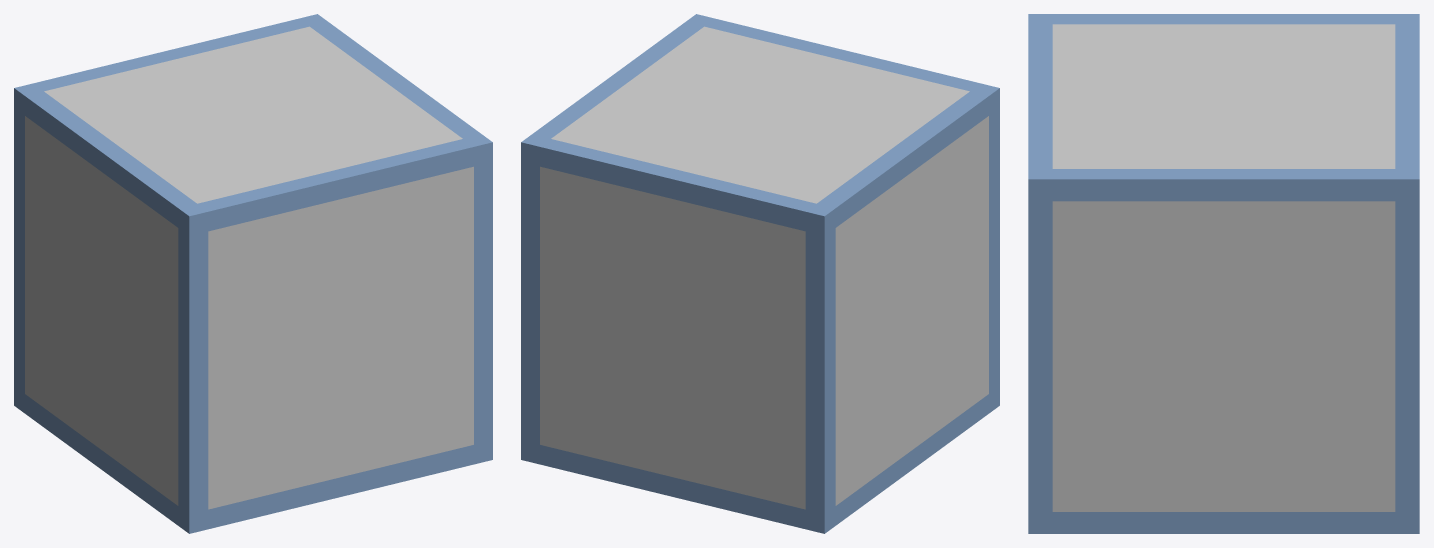
Rendered from Player.fbx.
3 renders of one model, left to right at view 1: azimuth 30°, elevation 25°; view 2: azimuth 150°, elevation 25°; view 3: azimuth 270°, elevation 25°, orthographic. The views are drawn at different scales.
Visible parts, largest first — view 1: Cube.001; view 2: Cube.001; view 3: Cube.001.
Part boxes in pixels (box(x1,y1,x2,y2)): Cube.001: box(14, 14, 492, 533); Cube.001: box(521, 14, 999, 533); Cube.001: box(1028, 14, 1419, 533).
Size of the model in its own units: 1 by 1 by 1.
